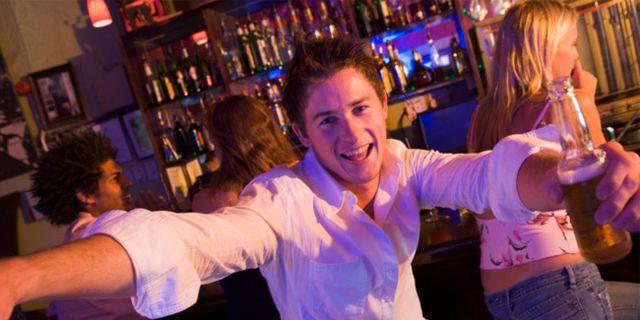Drunk: (302, 79, 388, 179)
